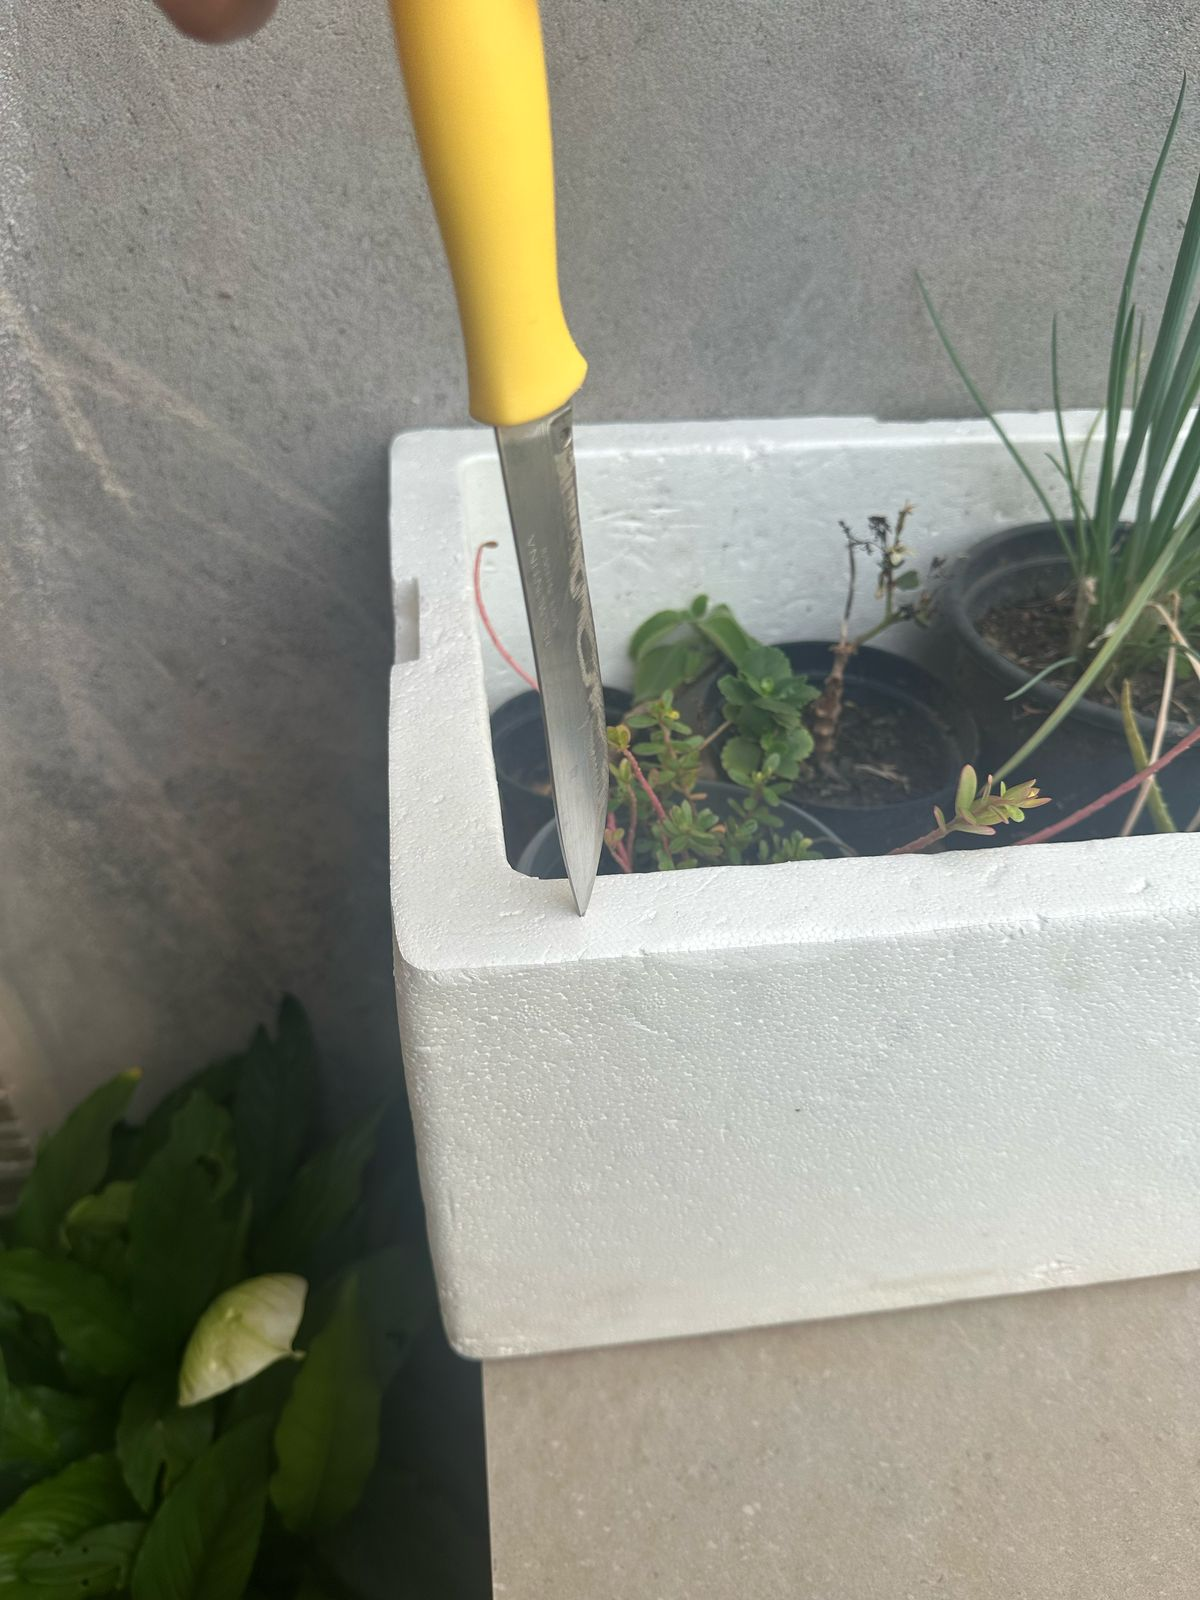faca: (416, 21, 625, 930)
